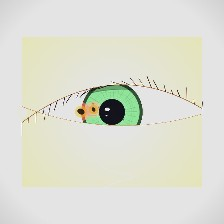foreign_body_visible: (48, 116, 76, 138)
